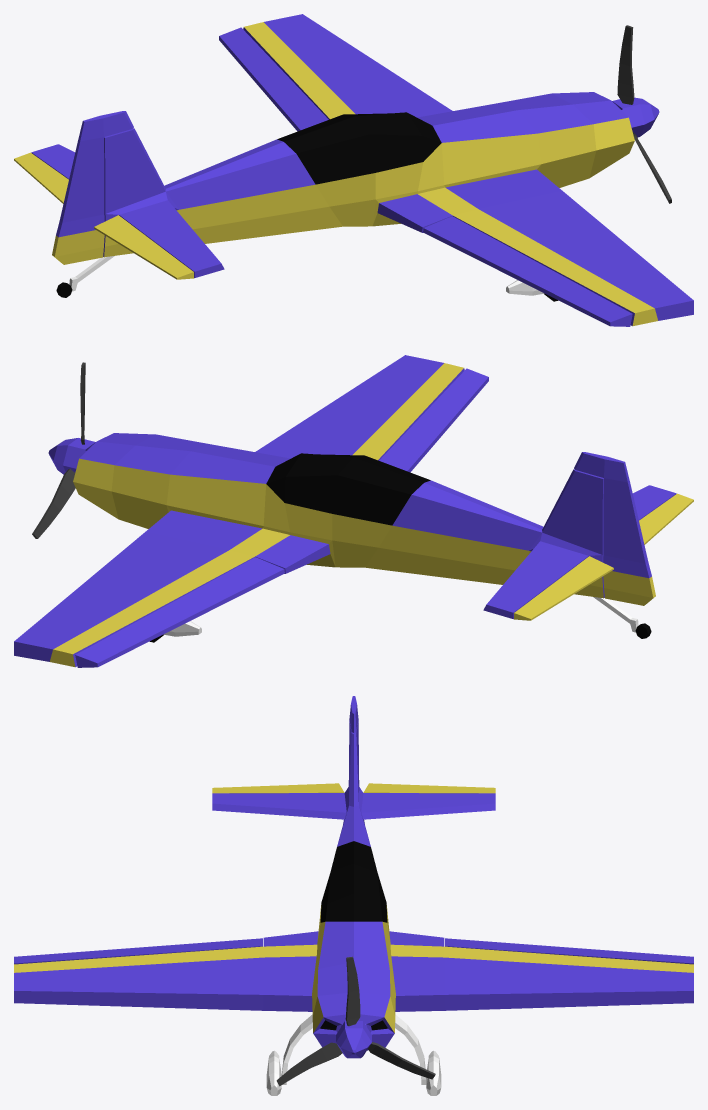
The model's file is voltige.fbx.
The picture shows the model from 3 angles, top to bottom: view 1: azimuth 30°, elevation 25°; view 2: azimuth 150°, elevation 25°; view 3: azimuth 270°, elevation 25°; orthographic projection. The views are drawn at different scales.
Visible parts, largest first — view 1: MainBody, Rubber, AileronRight, AileronLeft, Elevators, Propeller; view 2: MainBody, Rubber, AileronLeft, AileronRight, Elevators, Propeller; view 3: MainBody, Propeller, Elevators, AileronRight, AileronLeft.
Boxes of the visible parts, x1=… form: MainBody: x1=31, y1=14, x2=693, y2=326; Rubber: x1=52, y1=111, x2=133, y2=264; AileronRight: x1=423, y1=216, x2=632, y2=326; AileronLeft: x1=219, y1=27, x2=328, y2=131; Elevators: x1=14, y1=152, x2=193, y2=279; Propeller: x1=612, y1=25, x2=671, y2=203; MainBody: x1=14, y1=355, x2=676, y2=667; Rubber: x1=574, y1=452, x2=655, y2=605; AileronLeft: x1=75, y1=557, x2=284, y2=667; AileronRight: x1=379, y1=368, x2=488, y2=472; Elevators: x1=514, y1=493, x2=693, y2=620; Propeller: x1=32, y1=362, x2=95, y2=538; MainBody: x1=14, y1=721, x2=693, y2=1095; Propeller: x1=276, y1=956, x2=435, y2=1086; Elevators: x1=212, y1=783, x2=495, y2=793; AileronRight: x1=14, y1=938, x2=262, y2=964; AileronLeft: x1=445, y1=938, x2=693, y2=964.
Size of the model in its own units: 1251 by 489 by 1400.
